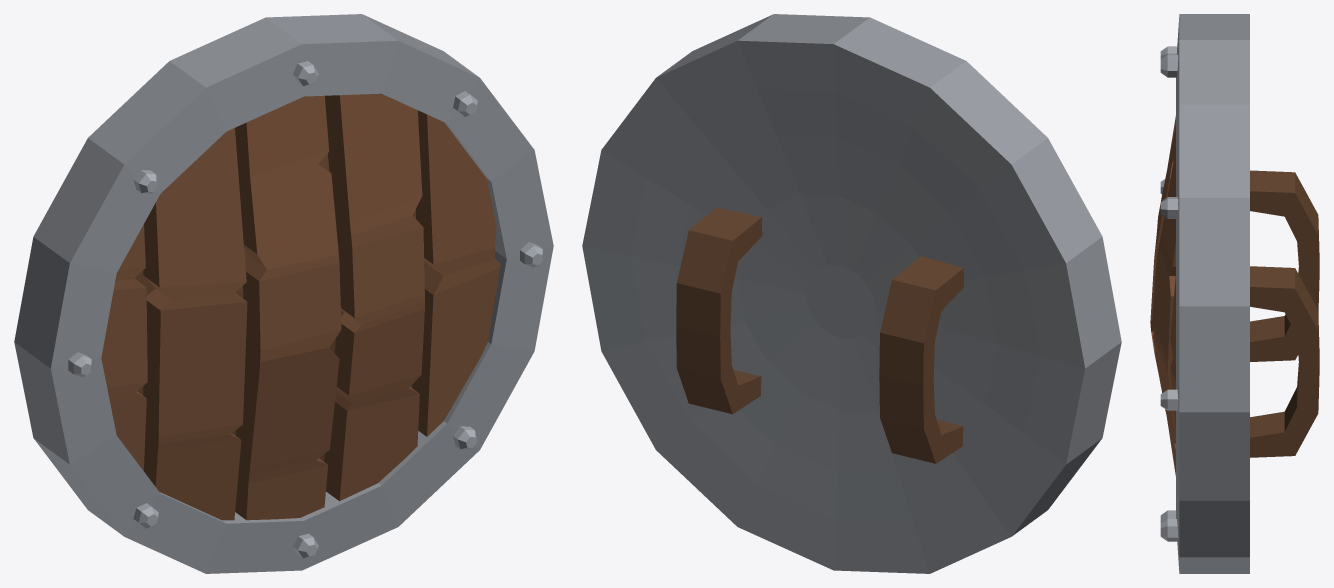
File: Shield_Round.glb
3 renders of one model, left to right at view 1: azimuth 30°, elevation 25°; view 2: azimuth 150°, elevation 25°; view 3: azimuth 270°, elevation 25°, orthographic. The views are drawn at different scales.
Parts seen in each view (by area): view 1: LightWood, Steel, LightSteel; view 2: Steel, DarkWood; view 3: Steel, DarkWood, LightWood, LightSteel.
Boxes of the visible parts, bbox=[...] form: LightWood: bbox=[101, 93, 500, 520]; Steel: bbox=[14, 14, 553, 573]; LightSteel: bbox=[68, 61, 542, 558]; Steel: bbox=[582, 14, 1121, 573]; DarkWood: bbox=[676, 207, 963, 463]; Steel: bbox=[1176, 14, 1249, 573]; DarkWood: bbox=[1250, 170, 1319, 457]; LightWood: bbox=[1150, 116, 1175, 475]; LightSteel: bbox=[1160, 46, 1178, 541].
Size of the model in its own units: 2 by 2 by 0.6037.
